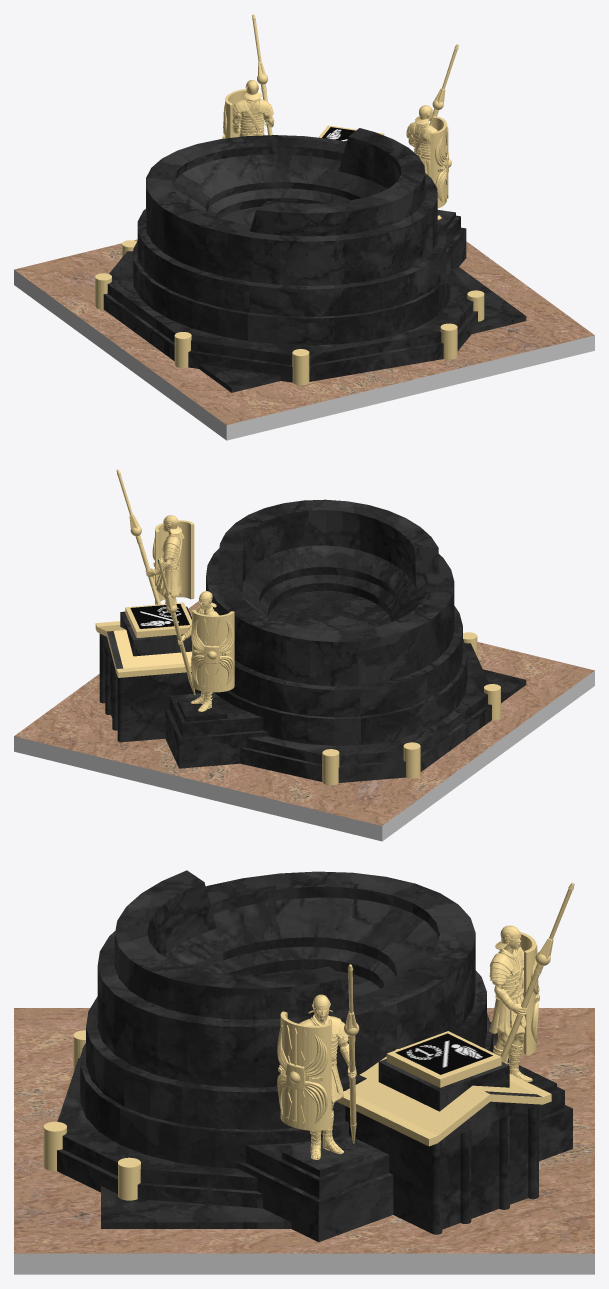
The model's file is buildingColiseo.glb.
The picture shows the model from 3 angles, top to bottom: view 1: azimuth 30°, elevation 25°; view 2: azimuth 150°, elevation 25°; view 3: azimuth 270°, elevation 25°; orthographic projection. The views are drawn at different scales.
Parts seen in each view (by area): view 1: Coliseo; view 2: Coliseo; view 3: Coliseo.
Boxes of the visible parts, box(x1,y1,x2,y2) form: Coliseo: box(14, 14, 594, 440); Coliseo: box(14, 469, 594, 841); Coliseo: box(14, 870, 594, 1274).
Size of the model in its own units: 5 by 2.85 by 5.
Materials: 5 (3 with a texture image).
